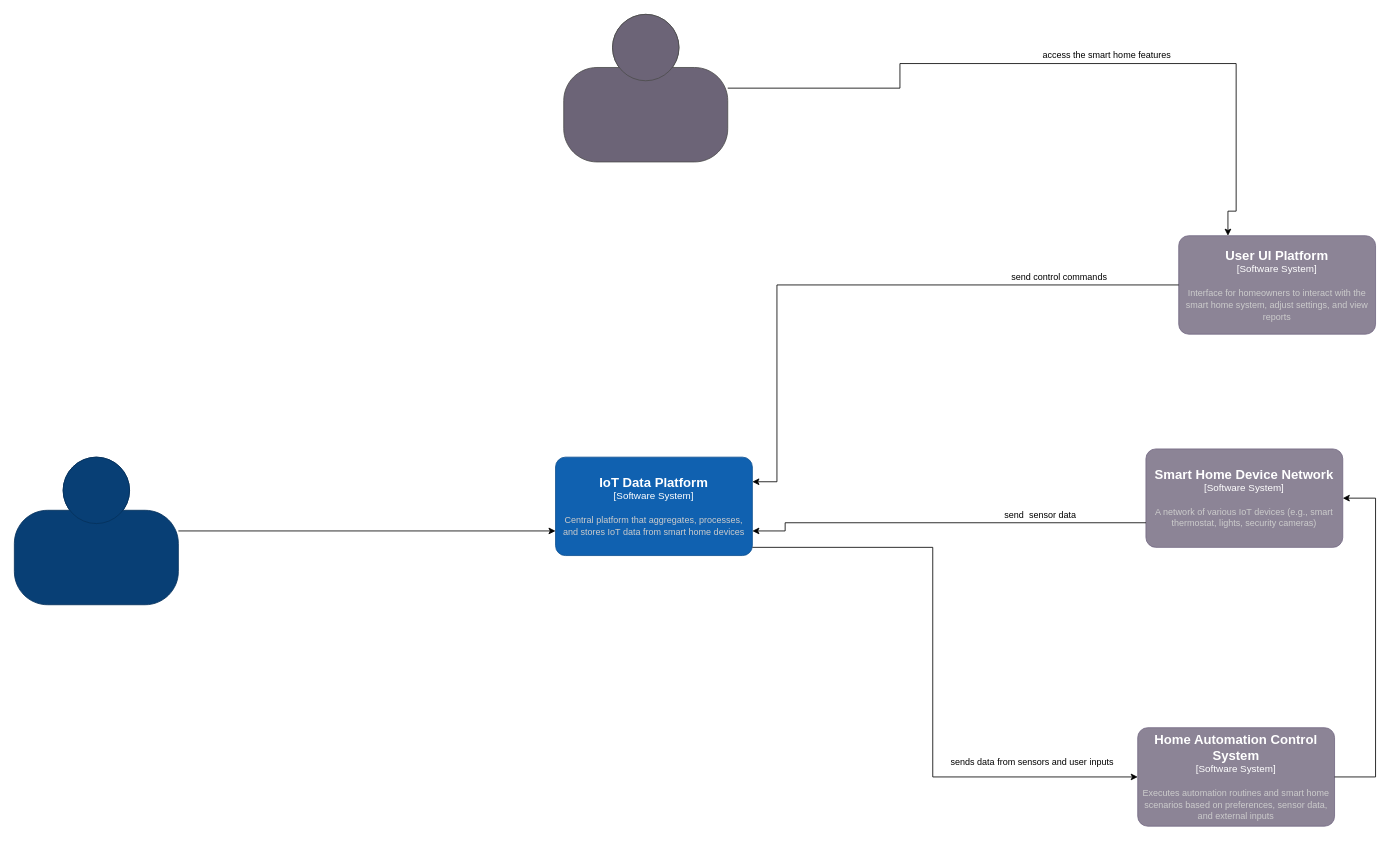
The diagram is 1396 pixels wide and 841 high, and some of its shapes have lost their labels. The centre of each missing label's shape, as x and y in pixels:
"Homeowner [Person]" goes at [645,88].
"IT department [Person]" goes at [96,530].
